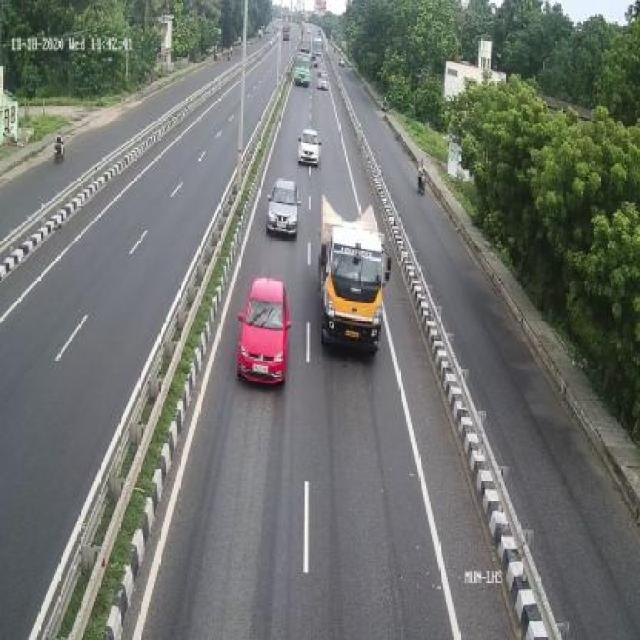car: (240, 271, 292, 392), (269, 176, 300, 238), (299, 123, 323, 168)
